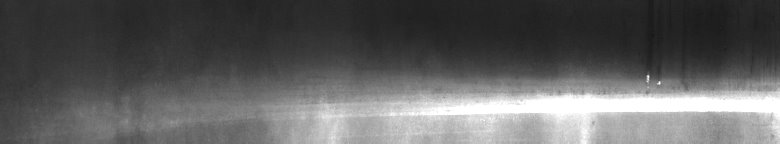ke: (345, 60, 776, 136)
